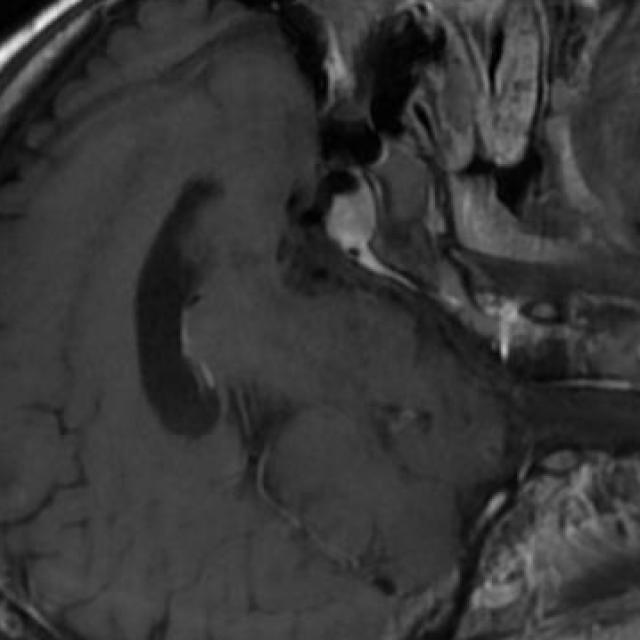pituitary: (328, 194, 373, 253)
